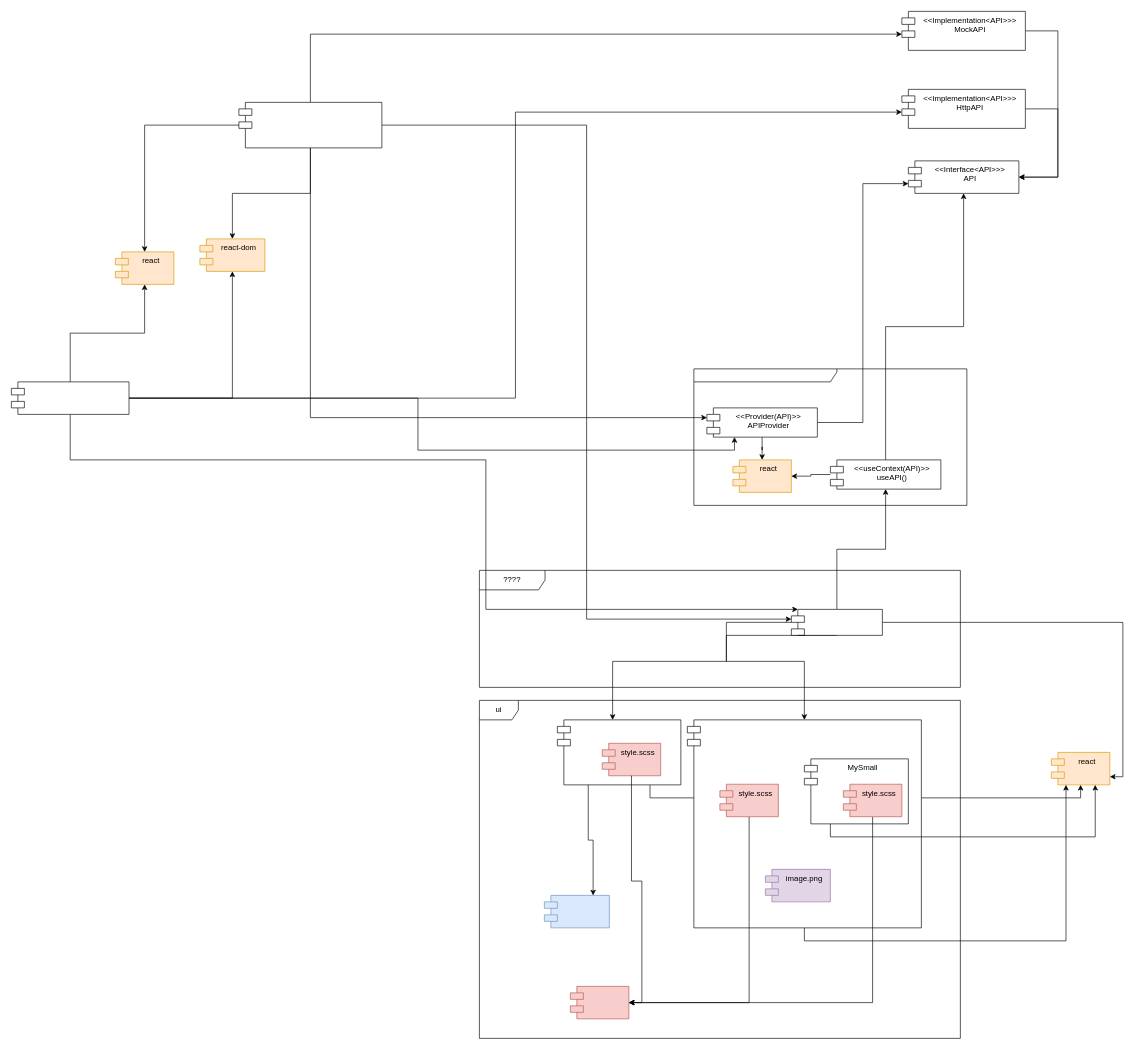
The diagram is 1139 pixels wide and 1050 high, and some of its shapes have lost their labels. Each missing label, with the box of its shape:
colors.scss: (570, 986, 629, 1019)
Dependency Injection using Context: (693, 368, 967, 505)
icon.svg: (544, 895, 609, 928)
MockedApplication: (238, 102, 382, 148)
MyAwesomePage: (791, 609, 882, 635)
MyButton: (557, 719, 681, 785)
MyComplexComponent: (687, 719, 921, 928)
ProductionApplication: (11, 381, 129, 414)
